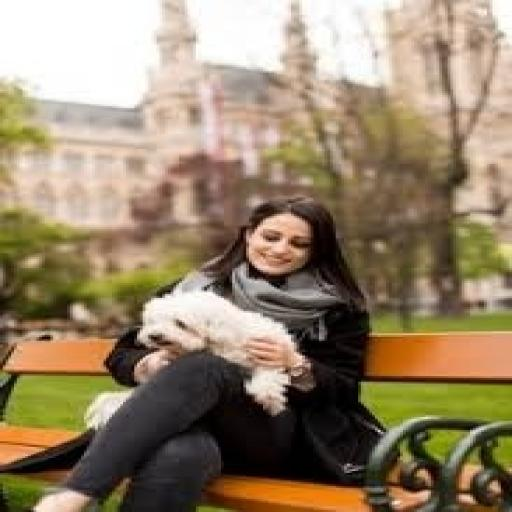sitting: (20, 192, 504, 510)
